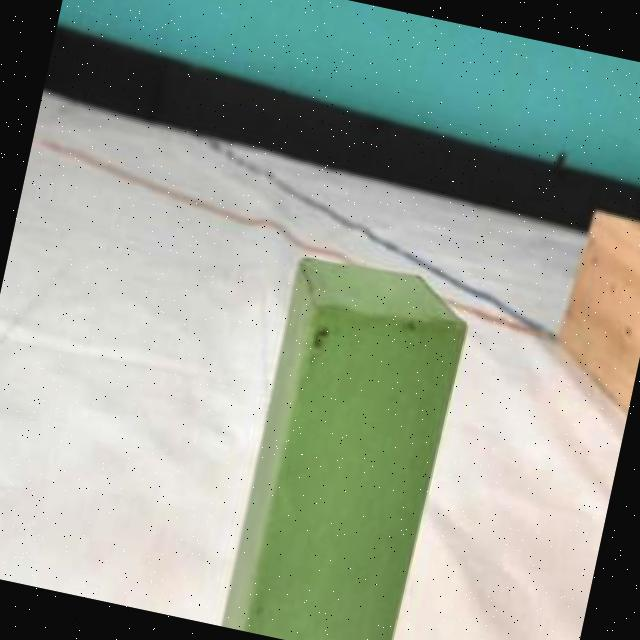greenbox: (212, 239, 482, 640)
